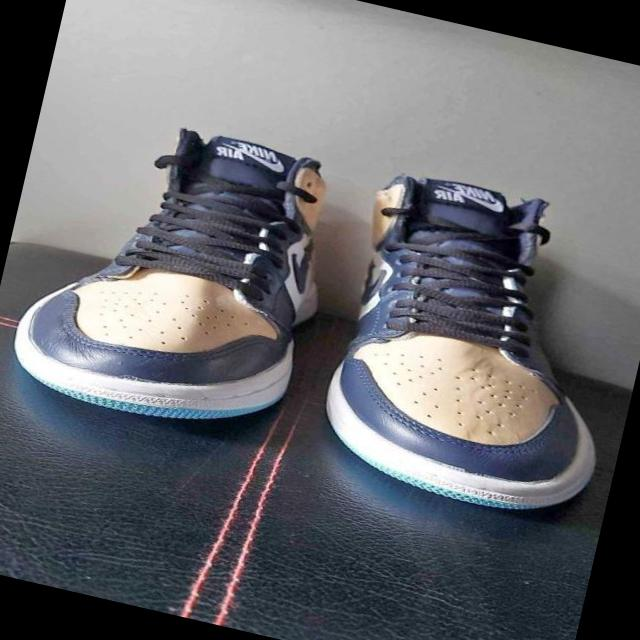nike_fake_jordan: (302, 158, 640, 529), (2, 98, 352, 450)
